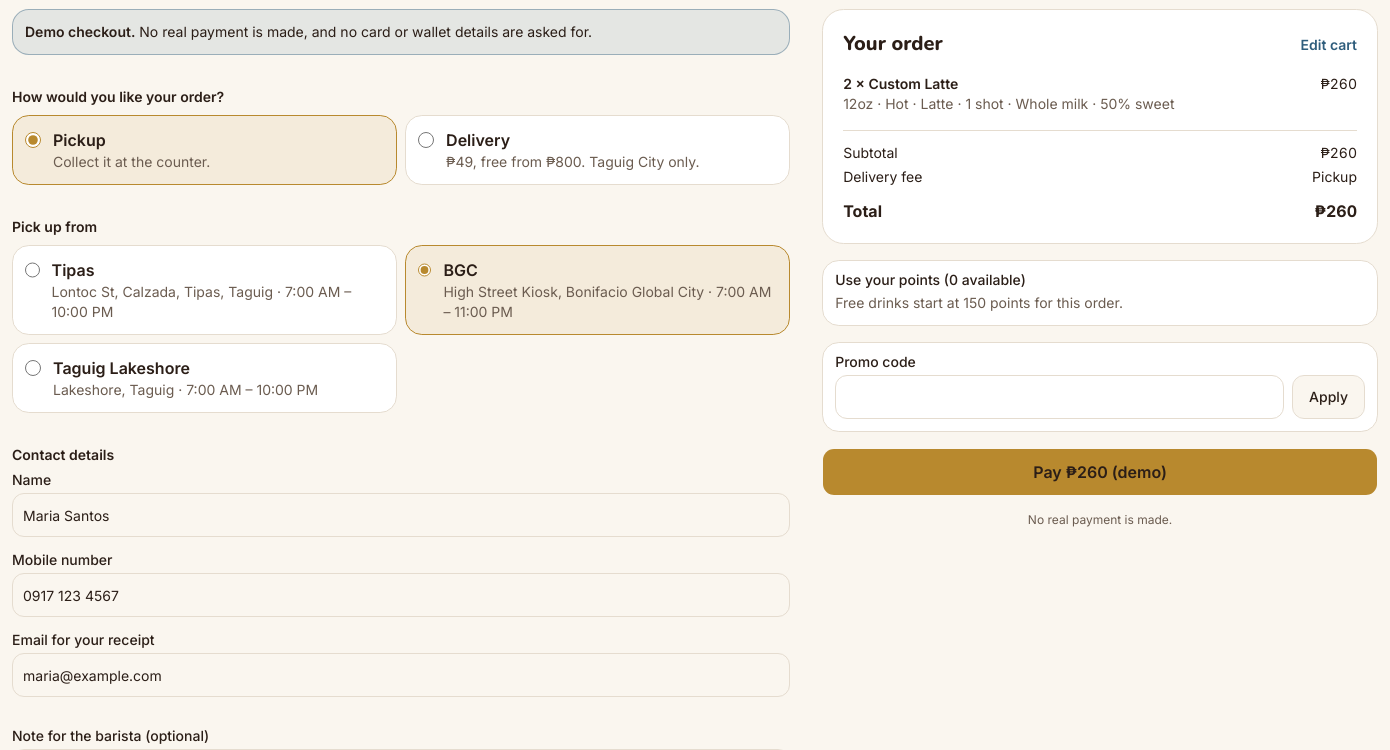
Scenario: CheckoutForm › adds delivery: address fields, the fee and cash on delivery
Click the radio button labelled "Delivery ₱49, free from ₱800. Taguig City only.": x=426, y=140 [418,132,434,148]
(page scrolled)
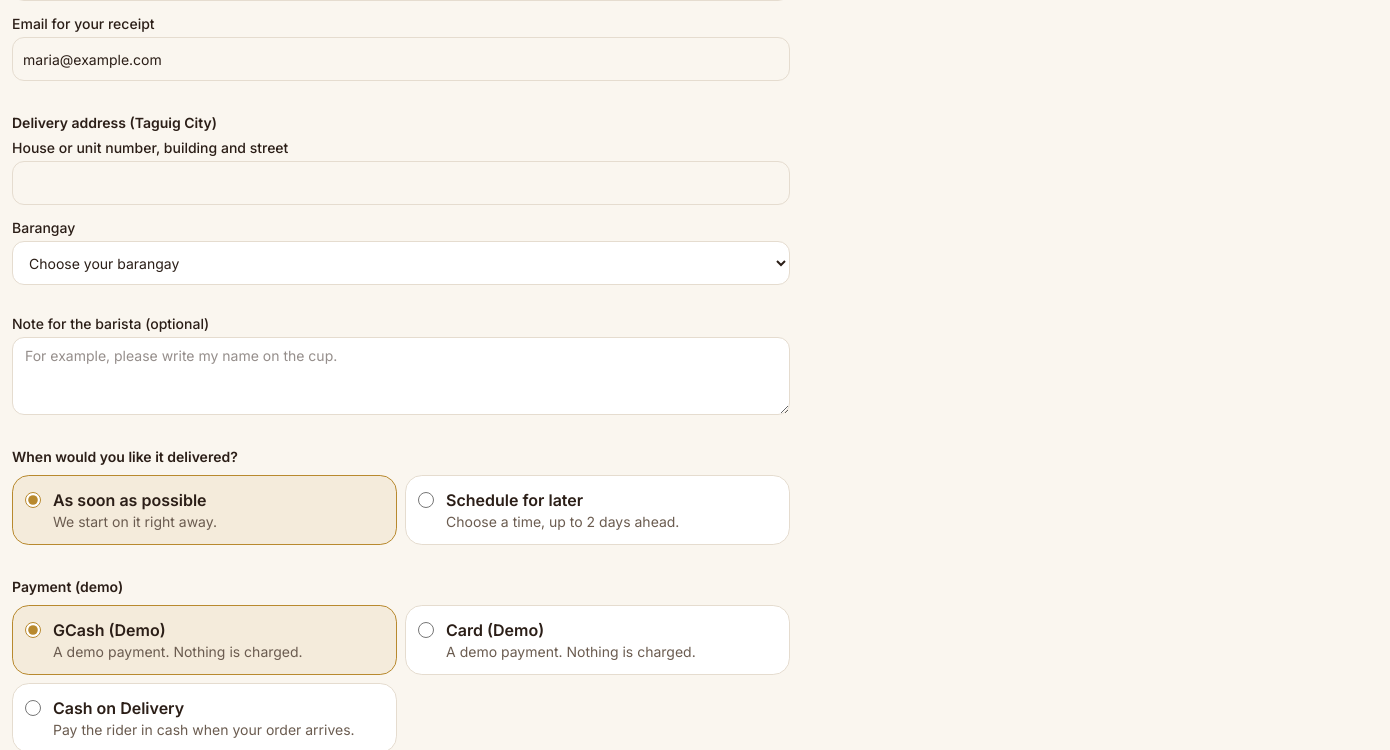
Now the dropdown labelled "Barangay" is shown, box [12,241,790,285]
Click the radio button labelled "Cash on Delivery": x=33, y=708 [25,700,41,716]
(page scrolled)
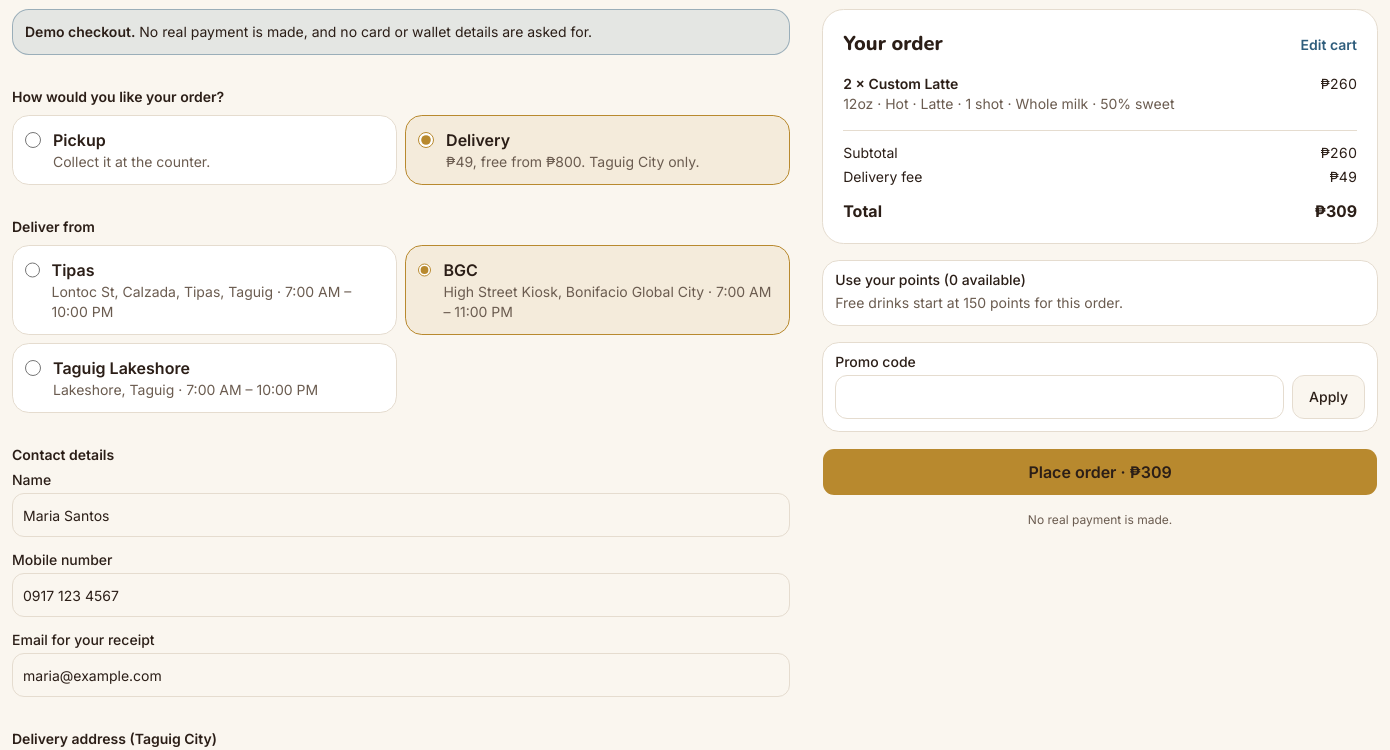
Now the button "Place order · ₱309" is shown, box [822,448,1378,496]
// Back to pickup: cash is no longer offered, so GCash is chosen again.
Click the radio button labelled "Pickup Collect it at the counter.": x=33, y=140 [25,132,41,148]
(page scrolled)
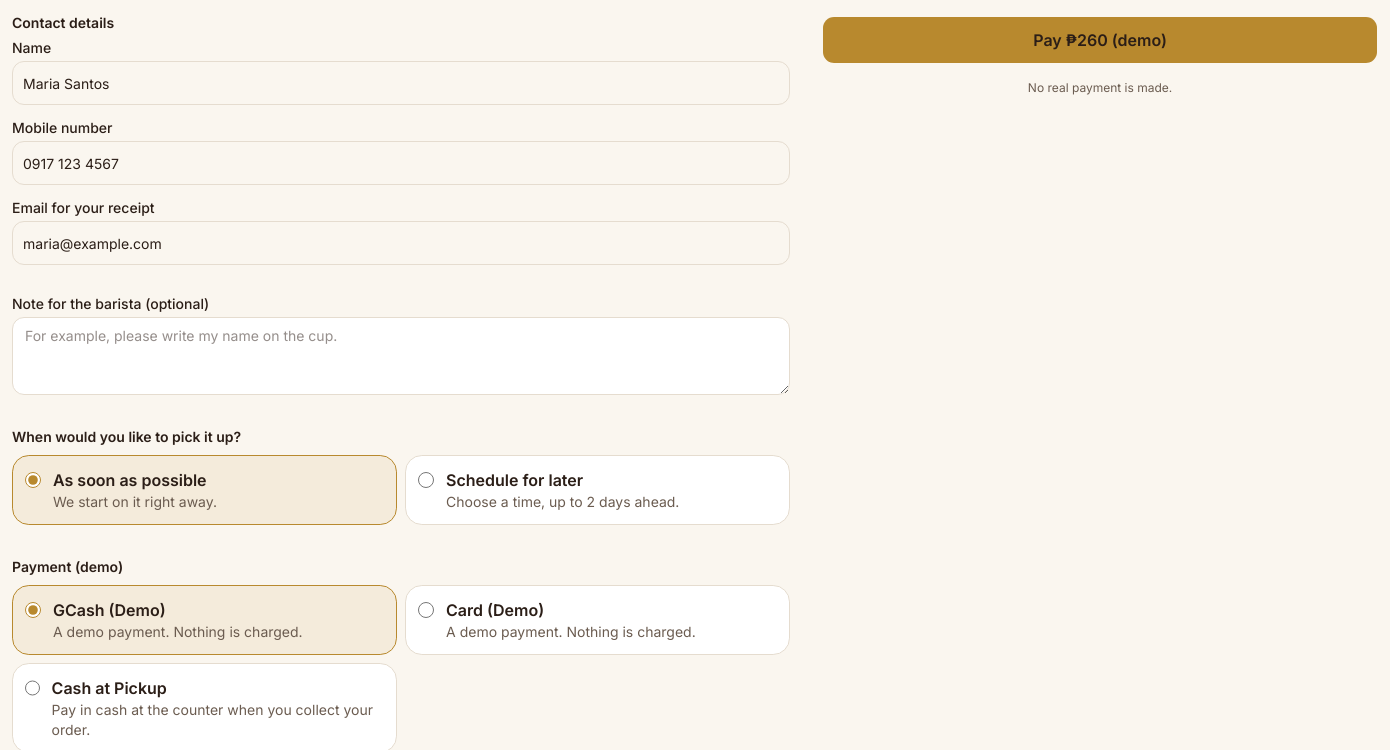
Now the radio button labelled "GCash (Demo) A demo payment. Nothing is charged." is checked, box [25,602,41,618]
